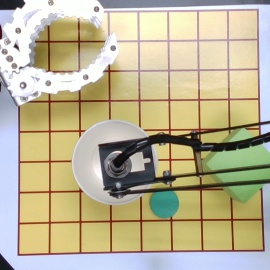cup: (72, 119, 159, 206)
green: (151, 190, 179, 217)
